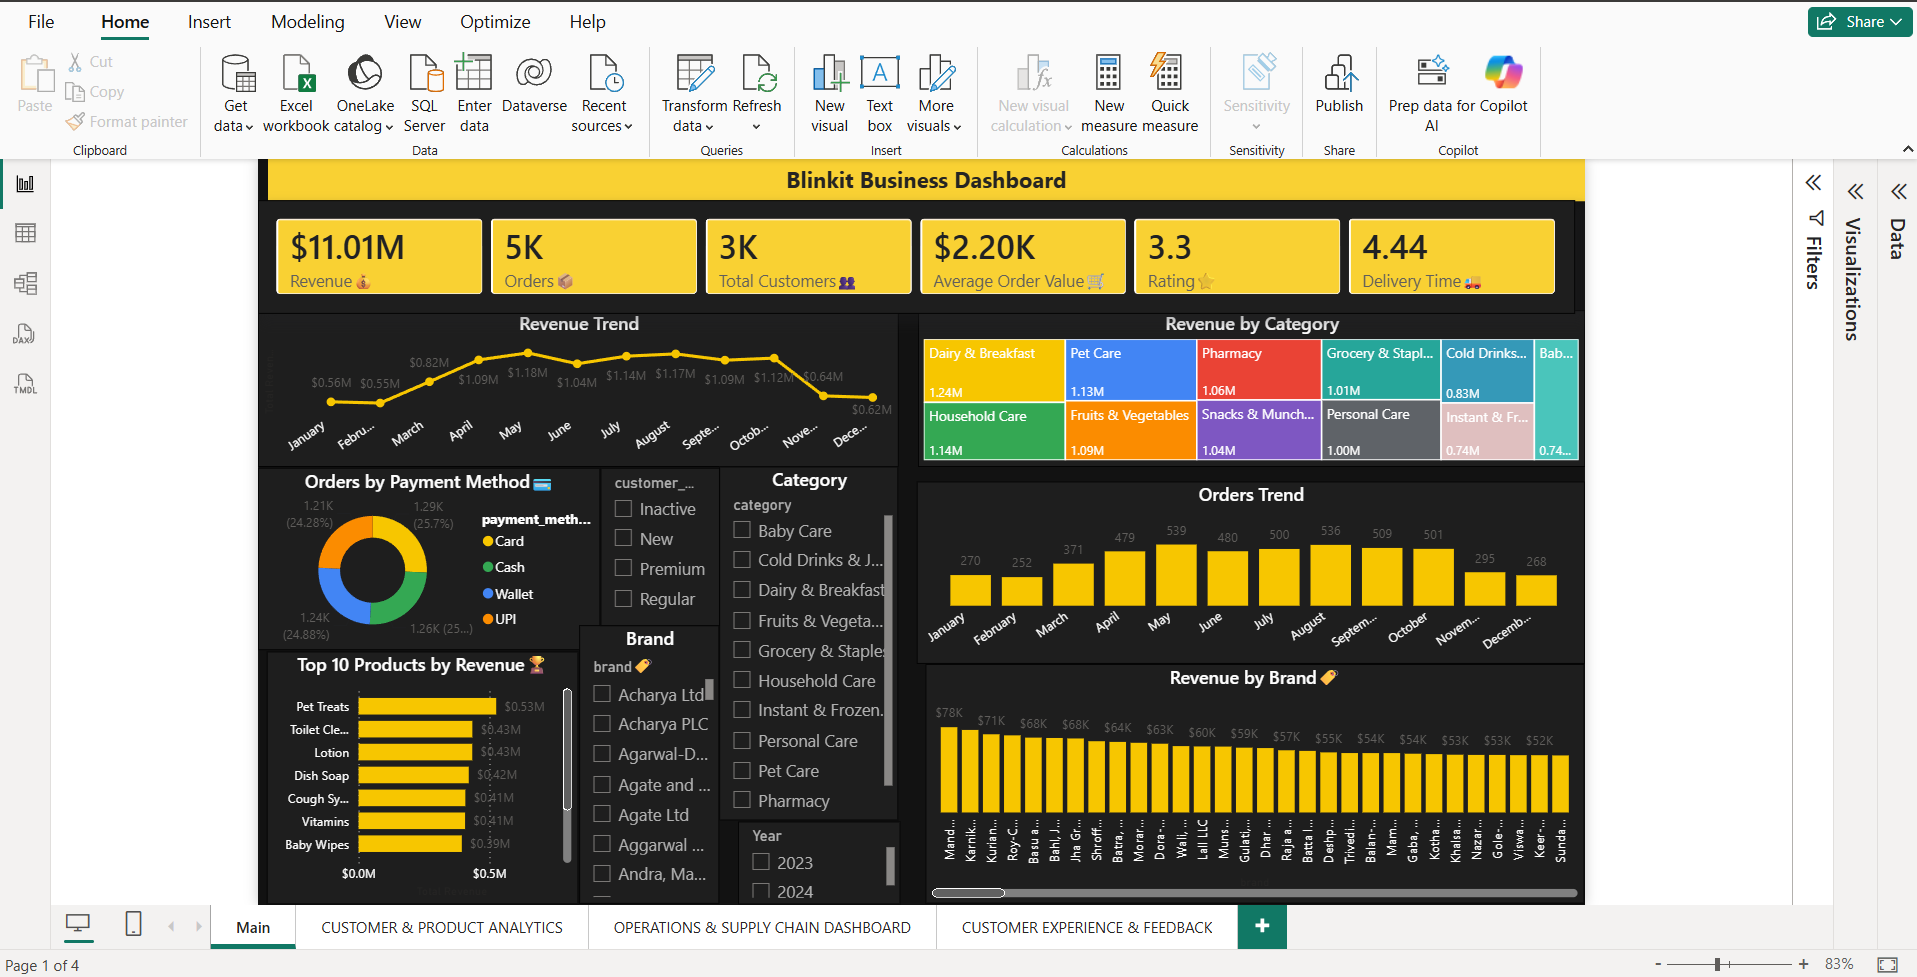

The dashboard page shown, as its layout file describes it:
{"tool":"powerbi","page":{"name":"Main","canvas":[1280,720],"ordinal":0},"visuals":[{"type":"lineChart","title":"Revenue Trend","fields":{"Y":["_Measures1.Total Revenue"],"Category":["blinkit_orders.order_date.Variation.Date Hierarchy.Month"]},"box":[0,146.5,618.7,151],"z":0},{"type":"treemap","title":"Revenue by Category","fields":{"Values":["_Measures1.Total Revenue"],"Group":["blinkit_products.category"]},"box":[636.5,146.5,643.9,151],"z":1000},{"type":"donutChart","title":"Orders by Payment Method💳","fields":{"Category":["blinkit_orders.payment_method"],"Y":["_Measures1.Total Orders"]},"box":[0,297.5,330.1,176.1],"z":2000},{"type":"clusteredBarChart","title":"Top 10 Products by Revenue🏆","fields":{"Category":["blinkit_products.product_name"],"Y":["_Measures1.Total Revenue"]},"box":[8.9,475.1,300.5,244.2],"z":3000},{"type":"columnChart","title":"Revenue by Brand🏷️","fields":{"Category":["blinkit_products.brand"],"Y":["_Measures1.Total Revenue"]},"box":[644.6,487.9,635.7,231.5],"z":4000},{"type":"columnChart","title":"Orders Trend","fields":{"Category":["blinkit_orders.order_date.Variation.Date Hierarchy.Month"],"Y":["_Measures1.Total Orders"]},"box":[635.7,311.6,644.6,176.3],"z":5000},{"type":"slicer","fields":{"Values":["blinkit_orders.order_date.Variation.Date Hierarchy.Year"]},"box":[463,639.3,156.7,80.1],"z":6000},{"type":"slicer","title":"Category","fields":{"Values":["blinkit_products.category"]},"box":[445.2,297.4,172.7,341.9],"z":7000},{"type":"slicer","title":"Brand","fields":{"Values":["blinkit_products.brand"]},"box":[309.9,450.5,135.3,268.9],"z":8000},{"type":"slicer","fields":{"Values":["blinkit_customers.customer_segment"]},"box":[330.1,297.5,115.4,152.5],"z":9000},{"type":"textbox","box":[9.5,0,1271.2,41.1],"z":10000},{"type":"cardVisual","fields":{"Data":["_Measures1.Total Revenue","_Measures1.Total Orders","_Measures1.Total Customers","_Measures1.Average Order Value","_Measures1.Average Rating","_Measures1.Average Delivery Time"]},"box":[0,40.2,1271.5,109.5],"z":11000}]}

Visuals, with their boxes on the page's 1280x720 design canvas (x1, y1, x2, y2). These are canvas units, not pixel positions in the 1917x977 screenshot, which may show the page scaled, cropped or inside an application window:
"Revenue Trend" lineChart: 0 146 619 298
"Revenue by Category" treemap: 636 146 1280 298
"Orders by Payment Method💳" donutChart: 0 298 330 474
"Top 10 Products by Revenue🏆" clusteredBarChart: 9 475 309 719
"Revenue by Brand🏷️" columnChart: 645 488 1280 719
"Orders Trend" columnChart: 636 312 1280 488
slicer - blinkit_orders.order_date.Variation.Date Hierarchy.Year: 463 639 620 719
"Category" slicer: 445 297 618 639
"Brand" slicer: 310 450 445 719
slicer - blinkit_customers.customer_segment: 330 298 446 450
textbox: 10 0 1281 41
cardVisual - _Measures1.Total Revenue x _Measures1.Total Orders: 0 40 1272 150
